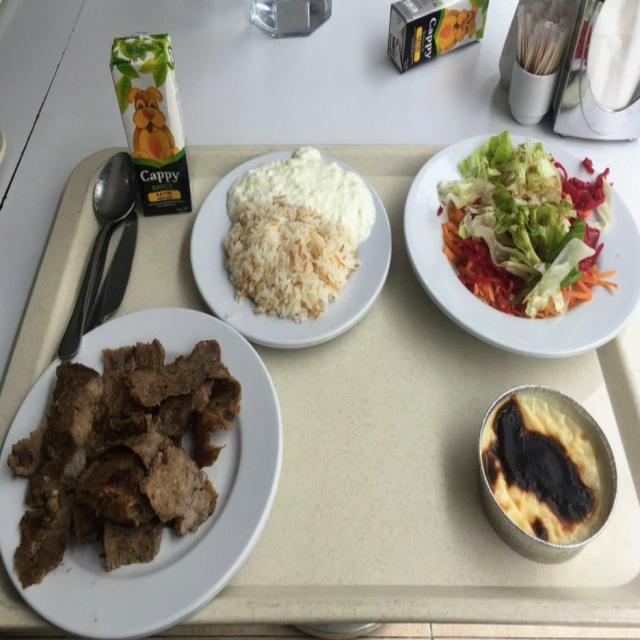ana_yemek: (6, 307, 283, 634), (188, 153, 380, 349)
yan_yemek: (405, 132, 640, 355)
